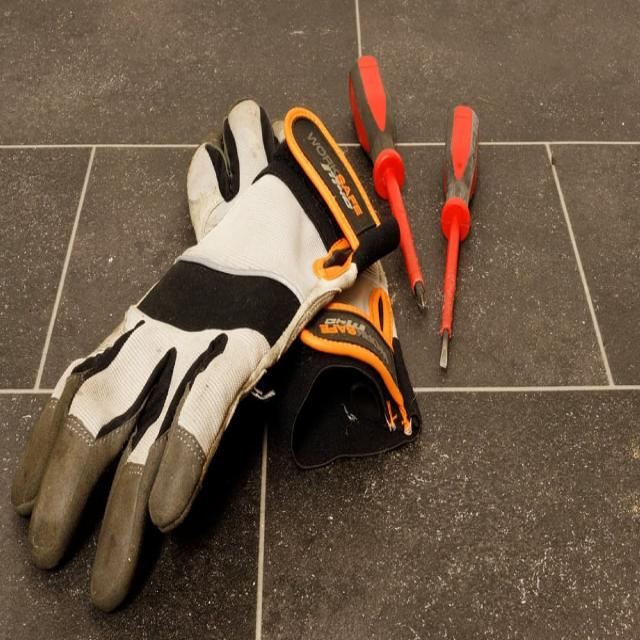gloves: (14, 101, 400, 614), (183, 100, 424, 444)
